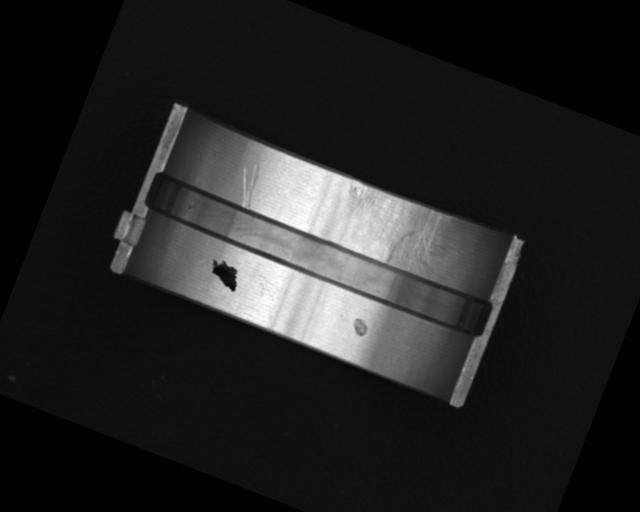blot: (205, 256, 245, 292)
bruise: (348, 316, 372, 339)
gap: (138, 170, 496, 341)
nick: (231, 158, 266, 209)
scratch: (329, 177, 464, 283)
